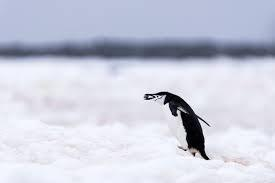chinstrap: (138, 90, 215, 170)
